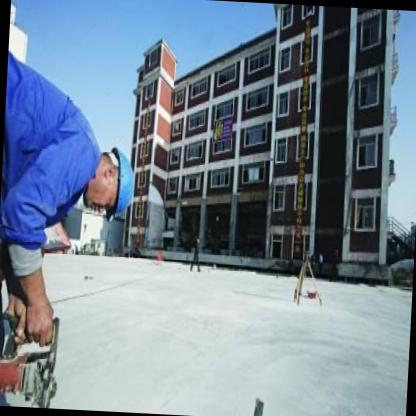helmet: (80, 142, 138, 216)
